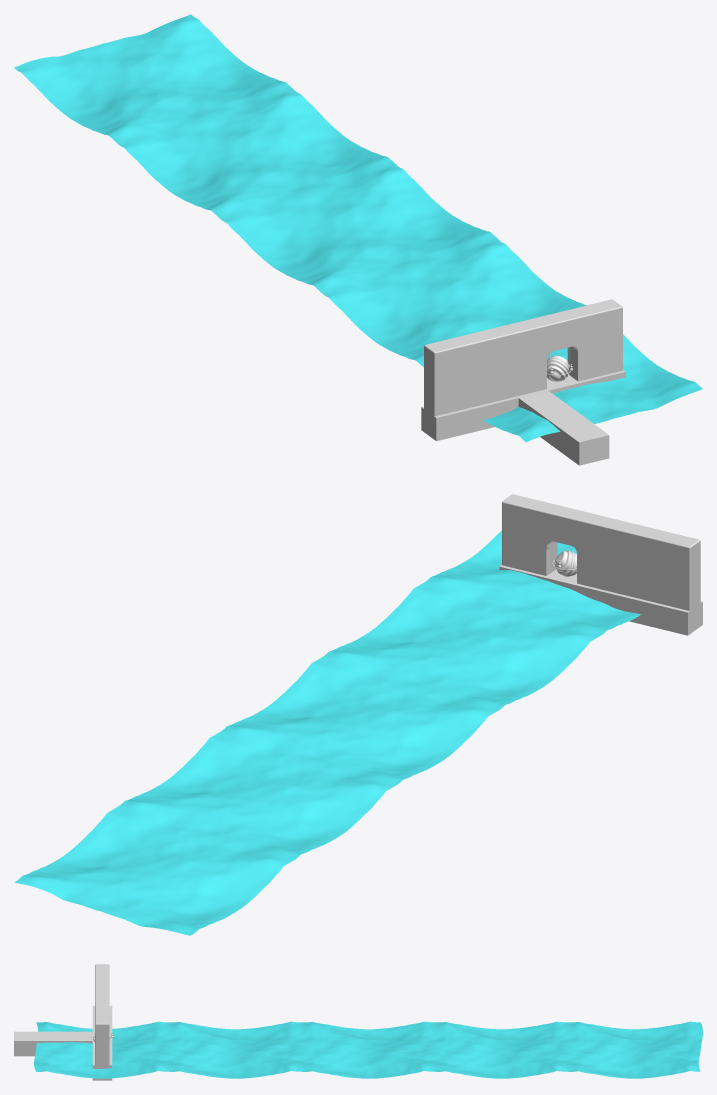
3 views of the same model, one above another, from view 1: azimuth 30°, elevation 25°; view 2: azimuth 150°, elevation 25°; view 3: azimuth 270°, elevation 25° (orthographic). The views are drawn at different scales.
Parts seen in each view (by area): view 1: agua, parede, ponte, chao; view 2: agua, parede, chao; view 3: agua, parede, ponte, chao.
Boxes of the visible parts, x1,y1,x2,y2 form: agua: (14,14,702,442); parede: (424,299,622,416); ponte: (518,391,609,465); chao: (421,370,625,441); agua: (14,530,641,935); parede: (502,494,700,612); chao: (499,565,702,635); agua: (33,1021,702,1078); parede: (95,964,109,1067); ponte: (14,1031,92,1056); chao: (92,1005,112,1080).
Bounding box in the file's own units: 20.17 × 7.5 × 82.92.
